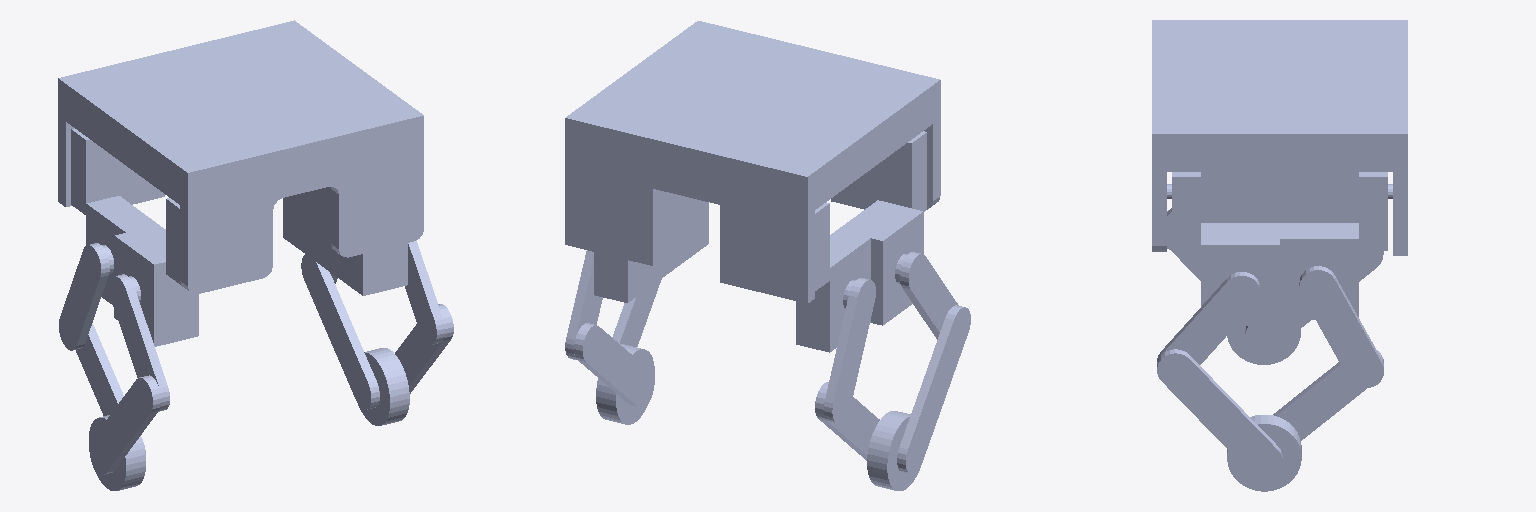
The robot description file, URDF, robot "robot.SLDASM":
<?xml version="1.0" encoding="utf-8"?>
<!-- This URDF was automatically created by SolidWorks to URDF Exporter! Originally created by Stephen Brawner (brawner@gmail.com) 
     Commit Version: 1.6.0-4-g7f85cfe  Build Version: 1.6.7995.38578
     For more information, please see http://wiki.ros.org/sw_urdf_exporter -->
<robot
  name="robot.SLDASM">
  <link
    name="base_link">
    <inertial>
      <origin
        xyz="0.100464743379373 -0.273417797162494 0.231369380364405"
        rpy="0 0 0" />
      <mass
        value="8.12765796417228" />
      <inertia
        ixx="0.113381267165392"
        ixy="-1.10883716950187E-17"
        ixz="6.53856800641098E-18"
        iyy="0.104302535100205"
        iyz="7.39699722855432E-05"
        izz="0.193324449577809" />
    </inertial>
    <visual>
      <origin
        xyz="0 0 0"
        rpy="0 0 0" />
      <geometry>
        <mesh
          filename="package://robot.SLDASM/meshes/base_link.STL" />
      </geometry>
      <material
        name="">
        <color
          rgba="0.792156862745098 0.819607843137255 0.933333333333333 1" />
      </material>
    </visual>
    <collision>
      <origin
        xyz="0 0 0"
        rpy="0 0 0" />
      <geometry>
        <mesh
          filename="package://robot.SLDASM/meshes/base_link.STL" />
      </geometry>
    </collision>
  </link>
  <link
    name="pad_link_right">
    <inertial>
      <origin
        xyz="-3.55729214853301E-05 -0.105 -2.77555756156289E-17"
        rpy="0 0 0" />
      <mass
        value="1.05976991118431" />
      <inertia
        ixx="0.00120769274628234"
        ixy="-5.29395592033938E-22"
        ixz="8.824233070056E-20"
        iyy="0.0023325641456101"
        iyz="-2.4525925475937E-21"
        izz="0.00141046839633323" />
    </inertial>
    <visual>
      <origin
        xyz="0 0 0"
        rpy="0 0 0" />
      <geometry>
        <mesh
          filename="package://robot.SLDASM/meshes/pad_link_right.STL" />
      </geometry>
      <material
        name="">
        <color
          rgba="0.792156862745098 0.819607843137255 0.933333333333333 1" />
      </material>
    </visual>
    <collision>
      <origin
        xyz="0 0 0"
        rpy="0 0 0" />
      <geometry>
        <mesh
          filename="package://robot.SLDASM/meshes/pad_link_right.STL" />
      </geometry>
    </collision>
  </link>
  <joint
    name="pad_joint_right"
    type="fixed">
    <origin
      xyz="-0.0145352566206275 -0.168456056407975 0.153440174945304"
      rpy="-3.14159265358979 0 3.14159265358979" />
    <parent
      link="base_link" />
    <child
      link="pad_link_right" />
    <axis
      xyz="0 0 0" />
  </joint>
  <link
    name="hip_frame_link_right">
    <inertial>
      <origin
        xyz="-0.00787535032168385 -0.0307485208640013 6.93889390390723E-18"
        rpy="0 0 0" />
      <mass
        value="1.51193274122872" />
      <inertia
        ixx="0.00230798720358944"
        ixy="-0.000347926290296318"
        ixz="1.89078126881913E-19"
        iyy="0.00722477501190136"
        iyz="4.08813026916916E-19"
        izz="0.00595941566724505" />
    </inertial>
    <visual>
      <origin
        xyz="0 0 0"
        rpy="0 0 0" />
      <geometry>
        <mesh
          filename="package://robot.SLDASM/meshes/hip_frame_link_right.STL" />
      </geometry>
      <material
        name="">
        <color
          rgba="0.792156862745098 0.819607843137255 0.933333333333333 1" />
      </material>
    </visual>
    <collision>
      <origin
        xyz="0 0 0"
        rpy="0 0 0" />
      <geometry>
        <mesh
          filename="package://robot.SLDASM/meshes/hip_frame_link_right.STL" />
      </geometry>
    </collision>
  </link>
  <joint
    name="hip_frame_joint_right"
    type="fixed">
    <origin
      xyz="0.01 -0.105 0.097"
      rpy="0 0 1.5707963267949" />
    <parent
      link="pad_link_right" />
    <child
      link="hip_frame_link_right" />
    <axis
      xyz="0 0 0" />
  </joint>
  <link
    name="thigh_right_1">
    <inertial>
      <origin
        xyz="0.0700000000000471 0.00650000000000001 -4.08895139969445E-13"
        rpy="0 0 0" />
      <mass
        value="0.116525440310417" />
      <inertia
        ixx="2.4587749999541E-05"
        ixy="-1.36515067319353E-21"
        ixz="1.53967296404782E-15"
        iyy="0.000338559690951383"
        iyz="2.19953294954768E-21"
        izz="0.000317254074187252" />
    </inertial>
    <visual>
      <origin
        xyz="0 0 0"
        rpy="0 0 0" />
      <geometry>
        <mesh
          filename="package://robot.SLDASM/meshes/thigh_right_1.STL" />
      </geometry>
      <material
        name="">
        <color
          rgba="0.792156862745098 0.819607843137255 0.933333333333333 1" />
      </material>
    </visual>
    <collision>
      <origin
        xyz="0 0 0"
        rpy="0 0 0" />
      <geometry>
        <mesh
          filename="package://robot.SLDASM/meshes/thigh_right_1.STL" />
      </geometry>
    </collision>
  </link>
  <joint
    name="thigh_joint_1"
    type="continuous">
    <origin
      xyz="0.0510000000000153 -0.06 0"
      rpy="3.14159265358979 -1.10816260407562 0" />
    <parent
      link="hip_frame_link_right" />
    <child
      link="thigh_right_1" />
    <axis
      xyz="0 1 0" />
  </joint>
  <link
    name="calf_right_link_1">
    <inertial>
      <origin
        xyz="-0.0900000000007728 -0.00650000000000001 2.68611521914153E-13"
        rpy="0 0 0" />
      <mass
        value="0.142525440310417" />
      <inertia
        ixx="3.03705833328743E-05"
        ixy="9.05353026545483E-22"
        ixz="9.29316268849425E-16"
        iyy="0.000603757766611383"
        iyz="2.33468699611553E-22"
        izz="0.000577401649847252" />
    </inertial>
    <visual>
      <origin
        xyz="0 0 0"
        rpy="0 0 0" />
      <geometry>
        <mesh
          filename="package://robot.SLDASM/meshes/calf_right_link_1.STL" />
      </geometry>
      <material
        name="">
        <color
          rgba="0.792156862745098 0.819607843137255 0.933333333333333 1" />
      </material>
    </visual>
    <collision>
      <origin
        xyz="0 0 0"
        rpy="0 0 0" />
      <geometry>
        <mesh
          filename="package://robot.SLDASM/meshes/calf_right_link_1.STL" />
      </geometry>
    </collision>
  </link>
  <joint
    name="calf_joint_right_1"
    type="continuous">
    <origin
      xyz="0.13999999999996 0 0"
      rpy="3.14159265358979 -1.31007351696931 3.14159265358979" />
    <parent
      link="thigh_right_1" />
    <child
      link="calf_right_link_1" />
    <axis
      xyz="0 1 0" />
  </joint>
  <link
    name="wheel_link_right">
    <inertial>
      <origin
        xyz="4.36872760189999E-14 -0.015 9.0116802908824E-13"
        rpy="0 0 0" />
      <mass
        value="0.234111484545512" />
      <inertia
        ixx="0.00016481448512004"
        ixy="-1.38494337144744E-21"
        ixz="-2.5410988417629E-21"
        iyy="0.000294512247558254"
        iyz="3.31377145312428E-21"
        izz="0.00016481448512004" />
    </inertial>
    <visual>
      <origin
        xyz="0 0 0"
        rpy="0 0 0" />
      <geometry>
        <mesh
          filename="package://robot.SLDASM/meshes/wheel_link_right.STL" />
      </geometry>
      <material
        name="">
        <color
          rgba="0.792156862745098 0.819607843137255 0.933333333333333 1" />
      </material>
    </visual>
    <collision>
      <origin
        xyz="0 0 0"
        rpy="0 0 0" />
      <geometry>
        <mesh
          filename="package://robot.SLDASM/meshes/wheel_link_right.STL" />
      </geometry>
    </collision>
  </link>
  <joint
    name="wheel_joint_right"
    type="continuous">
    <origin
      xyz="-0.180000000000025 0.000999999999999987 0"
      rpy="0 0.928798996028179 3.14159265358979" />
    <parent
      link="calf_right_link_1" />
    <child
      link="wheel_link_right" />
    <axis
      xyz="0 1 0" />
  </joint>
  <link
    name="thigh_right_2">
    <inertial>
      <origin
        xyz="0.0699999999999911 0.00649999999999999 -2.58071342074118E-13"
        rpy="0 0 0" />
      <mass
        value="0.116525440310417" />
      <inertia
        ixx="2.45877499995411E-05"
        ixy="6.9352432719385E-22"
        ixz="1.05707424828379E-15"
        iyy="0.000338559690951382"
        iyz="-2.84526358354157E-21"
        izz="0.000317254074187251" />
    </inertial>
    <visual>
      <origin
        xyz="0 0 0"
        rpy="0 0 0" />
      <geometry>
        <mesh
          filename="package://robot.SLDASM/meshes/thigh_right_2.STL" />
      </geometry>
      <material
        name="">
        <color
          rgba="0.792156862745098 0.819607843137255 0.933333333333333 1" />
      </material>
    </visual>
    <collision>
      <origin
        xyz="0 0 0"
        rpy="0 0 0" />
      <geometry>
        <mesh
          filename="package://robot.SLDASM/meshes/thigh_right_2.STL" />
      </geometry>
    </collision>
  </link>
  <joint
    name="thigh_joint_2"
    type="continuous">
    <origin
      xyz="-0.0510000000000018 -0.078 0"
      rpy="0 -0.886862904121189 3.14159265358979" />
    <parent
      link="hip_frame_link_right" />
    <child
      link="thigh_right_2" />
    <axis
      xyz="0 1 0" />
  </joint>
  <link
    name="calf_right_link_2">
    <inertial>
      <origin
        xyz="-0.0899999999994293 0.00649999999999999 3.56492613207138E-13"
        rpy="0 0 0" />
      <mass
        value="0.142525440310417" />
      <inertia
        ixx="3.03705833328744E-05"
        ixy="-2.23748770220882E-21"
        ixz="2.01531838634784E-15"
        iyy="0.000603757766611383"
        iyz="-1.81007091485894E-21"
        izz="0.000577401649847252" />
    </inertial>
    <visual>
      <origin
        xyz="0 0 0"
        rpy="0 0 0" />
      <geometry>
        <mesh
          filename="package://robot.SLDASM/meshes/calf_right_link_2.STL" />
      </geometry>
      <material
        name="">
        <color
          rgba="0.792156862745098 0.819607843137255 0.933333333333333 1" />
      </material>
    </visual>
    <collision>
      <origin
        xyz="0 0 0"
        rpy="0 0 0" />
      <geometry>
        <mesh
          filename="package://robot.SLDASM/meshes/calf_right_link_2.STL" />
      </geometry>
    </collision>
  </link>
  <joint
    name="calf_joint_right_2"
    type="continuous">
    <origin
      xyz="0.140000000000064 0.013 0"
      rpy="3.14159265358979 1.39896599112596 3.14159265358979" />
    <parent
      link="thigh_right_2" />
    <child
      link="calf_right_link_2" />
    <axis
      xyz="0 1 0" />
  </joint>
  <link
    name="pad_link_left">
    <inertial>
      <origin
        xyz="-3.5572921485344E-05 -0.105 2.77555756156289E-17"
        rpy="0 0 0" />
      <mass
        value="1.05976991118431" />
      <inertia
        ixx="0.00120769274628234"
        ixy="1.05879118406788E-22"
        ixz="-2.33498734180828E-19"
        iyy="0.0023325641456101"
        iyz="1.83171406703271E-21"
        izz="0.00141046839633323" />
    </inertial>
    <visual>
      <origin
        xyz="0 0 0"
        rpy="0 0 0" />
      <geometry>
        <mesh
          filename="package://robot.SLDASM/meshes/pad_link_left.STL" />
      </geometry>
      <material
        name="">
        <color
          rgba="0.792156862745098 0.819607843137255 0.933333333333333 1" />
      </material>
    </visual>
    <collision>
      <origin
        xyz="0 0 0"
        rpy="0 0 0" />
      <geometry>
        <mesh
          filename="package://robot.SLDASM/meshes/pad_link_left.STL" />
      </geometry>
    </collision>
  </link>
  <joint
    name="pad_joint_left"
    type="fixed">
    <origin
      xyz="0.215464743379373 -0.378456056407975 0.153440174945304"
      rpy="3.14159265358979 0 0" />
    <parent
      link="base_link" />
    <child
      link="pad_link_left" />
    <axis
      xyz="0 0 0" />
  </joint>
  <link
    name="hip_frame_link_left">
    <inertial>
      <origin
        xyz="-0.0078753503216839 0.0307485208640013 -6.93889390390723E-18"
        rpy="0 0 0" />
      <mass
        value="1.51193274122872" />
      <inertia
        ixx="0.00230798720358944"
        ixy="0.000347926290296318"
        ixz="-1.35078386623163E-18"
        iyy="0.00722477501190135"
        iyz="8.40488619506597E-20"
        izz="0.00595941566724504" />
    </inertial>
    <visual>
      <origin
        xyz="0 0 0"
        rpy="0 0 0" />
      <geometry>
        <mesh
          filename="package://robot.SLDASM/meshes/hip_frame_link_left.STL" />
      </geometry>
      <material
        name="">
        <color
          rgba="0.792156862745098 0.819607843137255 0.933333333333333 1" />
      </material>
    </visual>
    <collision>
      <origin
        xyz="0 0 0"
        rpy="0 0 0" />
      <geometry>
        <mesh
          filename="package://robot.SLDASM/meshes/hip_frame_link_left.STL" />
      </geometry>
    </collision>
  </link>
  <joint
    name="hil_frame_joint_left"
    type="fixed">
    <origin
      xyz="0.01 -0.105 0.0970000000000001"
      rpy="0 0 -1.5707963267949" />
    <parent
      link="pad_link_left" />
    <child
      link="hip_frame_link_left" />
    <axis
      xyz="0 0 0" />
  </joint>
  <link
    name="thigh_left_1">
    <inertial>
      <origin
        xyz="0.07 -0.00649999999999995 -2.77555756156289E-17"
        rpy="0 0 0" />
      <mass
        value="0.116525440310417" />
      <inertia
        ixx="2.45877499995411E-05"
        ixy="5.27965569542743E-23"
        ixz="8.30092288309214E-20"
        iyy="0.000338559690951383"
        iyz="-9.12645292528991E-22"
        izz="0.000317254074187252" />
    </inertial>
    <visual>
      <origin
        xyz="0 0 0"
        rpy="0 0 0" />
      <geometry>
        <mesh
          filename="package://robot.SLDASM/meshes/thigh_left_1.STL" />
      </geometry>
      <material
        name="">
        <color
          rgba="0.792156862745098 0.819607843137255 0.933333333333333 1" />
      </material>
    </visual>
    <collision>
      <origin
        xyz="0 0 0"
        rpy="0 0 0" />
      <geometry>
        <mesh
          filename="package://robot.SLDASM/meshes/thigh_left_1.STL" />
      </geometry>
    </collision>
  </link>
  <joint
    name="thigh_joint_1"
    type="continuous">
    <origin
      xyz="0.0509999999999999 0.06 0"
      rpy="3.14159265358979 -1.10060010562748 0" />
    <parent
      link="hip_frame_link_left" />
    <child
      link="thigh_left_1" />
    <axis
      xyz="0 1 0" />
  </joint>
  <link
    name="calf_left_link_1">
    <inertial>
      <origin
        xyz="-0.0899999999999976 0.00650000000000001 7.66053886991358E-15"
        rpy="0 0 0" />
      <mass
        value="0.142525440310417" />
      <inertia
        ixx="3.03705833328744E-05"
        ixy="-6.23776929673658E-21"
        ixz="2.64274279543342E-19"
        iyy="0.000603757766611385"
        iyz="2.42468484584563E-22"
        izz="0.000577401649847254" />
    </inertial>
    <visual>
      <origin
        xyz="0 0 0"
        rpy="0 0 0" />
      <geometry>
        <mesh
          filename="package://robot.SLDASM/meshes/calf_left_link_1.STL" />
      </geometry>
      <material
        name="">
        <color
          rgba="0.792156862745098 0.819607843137255 0.933333333333333 1" />
      </material>
    </visual>
    <collision>
      <origin
        xyz="0 0 0"
        rpy="0 0 0" />
      <geometry>
        <mesh
          filename="package://robot.SLDASM/meshes/calf_left_link_1.STL" />
      </geometry>
    </collision>
  </link>
  <joint
    name="calf_joint_left_1"
    type="continuous">
    <origin
      xyz="0.14 0 0"
      rpy="3.14159265358979 -1.32012929338845 3.14159265358979" />
    <parent
      link="thigh_left_1" />
    <child
      link="calf_left_link_1" />
    <axis
      xyz="0 1 0" />
  </joint>
  <link
    name="wheel_link_left">
    <inertial>
      <origin
        xyz="4.63518112781003E-15 0.015 -5.10702591327572E-15"
        rpy="0 0 0" />
      <mass
        value="0.234111484545512" />
      <inertia
        ixx="0.00016481448512004"
        ixy="-1.32690051411216E-21"
        ixz="5.22185070698748E-40"
        iyy="0.000294512247558254"
        iyz="-2.10584729793552E-35"
        izz="0.00016481448512004" />
    </inertial>
    <visual>
      <origin
        xyz="0 0 0"
        rpy="0 0 0" />
      <geometry>
        <mesh
          filename="package://robot.SLDASM/meshes/wheel_link_left.STL" />
      </geometry>
      <material
        name="">
        <color
          rgba="0.792156862745098 0.819607843137255 0.933333333333333 1" />
      </material>
    </visual>
    <collision>
      <origin
        xyz="0 0 0"
        rpy="0 0 0" />
      <geometry>
        <mesh
          filename="package://robot.SLDASM/meshes/wheel_link_left.STL" />
      </geometry>
    </collision>
  </link>
  <joint
    name="wheel_joint_left"
    type="continuous">
    <origin
      xyz="-0.180000000000001 -0.001 0"
      rpy="0 0.849933072221034 3.14159265358979" />
    <parent
      link="calf_left_link_1" />
    <child
      link="wheel_link_left" />
    <axis
      xyz="0 1 0" />
  </joint>
  <link
    name="thigh_left_2">
    <inertial>
      <origin
        xyz="0.0699999999999821 -0.00649999999999995 -1.00475183728577E-14"
        rpy="0 0 0" />
      <mass
        value="0.116525440310417" />
      <inertia
        ixx="2.45877499995411E-05"
        ixy="2.25113385230681E-22"
        ixz="2.15993401549847E-19"
        iyy="0.000338559690951383"
        iyz="-1.13788144941437E-21"
        izz="0.000317254074187252" />
    </inertial>
    <visual>
      <origin
        xyz="0 0 0"
        rpy="0 0 0" />
      <geometry>
        <mesh
          filename="package://robot.SLDASM/meshes/thigh_left_2.STL" />
      </geometry>
      <material
        name="">
        <color
          rgba="0.792156862745098 0.819607843137255 0.933333333333333 1" />
      </material>
    </visual>
    <collision>
      <origin
        xyz="0 0 0"
        rpy="0 0 0" />
      <geometry>
        <mesh
          filename="package://robot.SLDASM/meshes/thigh_left_2.STL" />
      </geometry>
    </collision>
  </link>
  <joint
    name="thigh_joint_2"
    type="continuous">
    <origin
      xyz="-0.0510000000000005 0.078 0"
      rpy="0 -0.885520670756392 3.14159265358979" />
    <parent
      link="hip_frame_link_left" />
    <child
      link="thigh_left_2" />
    <axis
      xyz="0 1 0" />
  </joint>
  <link
    name="calf_left_link_2">
    <inertial>
      <origin
        xyz="-0.0900000000000073 -0.00650000000000001 1.66533453693773E-16"
        rpy="0 0 0" />
      <mass
        value="0.142525440310417" />
      <inertia
        ixx="3.03705833328745E-05"
        ixy="-3.00074510556189E-21"
        ixz="-1.04185052512279E-19"
        iyy="0.000603757766611385"
        iyz="2.89004002464875E-21"
        izz="0.000577401649847254" />
    </inertial>
    <visual>
      <origin
        xyz="0 0 0"
        rpy="0 0 0" />
      <geometry>
        <mesh
          filename="package://robot.SLDASM/meshes/calf_left_link_2.STL" />
      </geometry>
      <material
        name="">
        <color
          rgba="0.792156862745098 0.819607843137255 0.933333333333333 1" />
      </material>
    </visual>
    <collision>
      <origin
        xyz="0 0 0"
        rpy="0 0 0" />
      <geometry>
        <mesh
          filename="package://robot.SLDASM/meshes/calf_left_link_2.STL" />
      </geometry>
    </collision>
  </link>
  <joint
    name="calf_left_joint_1"
    type="continuous">
    <origin
      xyz="0.139999999999993 -0.013 0"
      rpy="3.14159265358979 1.40616950507853 3.14159265358979" />
    <parent
      link="thigh_left_2" />
    <child
      link="calf_left_link_2" />
    <axis
      xyz="0 1 0" />
  </joint>
</robot>

--- What the picture shows (computed from the rendered views, not written in the file) ---
3 views of the same robot in one strip: view 1: azimuth 30°, elevation 25°; view 2: azimuth 150°, elevation 25°; view 3: azimuth 270°, elevation 25° (orthographic).
Model robot.SLDASM with 15 links and 14 joints (10 continuous, 4 fixed), rooted at base_link, posed all joints at 0.
Visible links, largest first — view 1: base_link, hip_frame_link_right, hip_frame_link_left, pad_link_right, calf_left_link_1, calf_right_link_2, thigh_right_1, thigh_right_2, wheel_link_left, thigh_left_2, calf_right_link_1, calf_left_link_2 (+2 smaller); view 2: base_link, hip_frame_link_right, pad_link_right, hip_frame_link_left, calf_right_link_2, thigh_right_1, calf_left_link_1, thigh_right_2, wheel_link_right, calf_right_link_1, thigh_left_1, wheel_link_left (+2 smaller); view 3: base_link, hip_frame_link_left, hip_frame_link_right, calf_left_link_2, thigh_left_1, pad_link_left, thigh_left_2, calf_left_link_1, wheel_link_left, calf_right_link_1, wheel_link_right.
Boxes of the visible links, bbox=[...] form: base_link: bbox=[58, 20, 423, 293]; hip_frame_link_right: bbox=[86, 196, 198, 346]; hip_frame_link_left: bbox=[283, 190, 407, 295]; pad_link_right: bbox=[71, 128, 180, 284]; calf_left_link_1: bbox=[301, 254, 379, 409]; calf_right_link_2: bbox=[90, 375, 161, 474]; thigh_right_1: bbox=[59, 243, 109, 350]; thigh_right_2: bbox=[109, 274, 169, 411]; wheel_link_left: bbox=[358, 348, 409, 425]; thigh_left_2: bbox=[405, 240, 444, 344]; calf_right_link_1: bbox=[76, 323, 145, 454]; calf_left_link_2: bbox=[395, 304, 453, 393]; base_link: bbox=[565, 21, 940, 303]; hip_frame_link_right: bbox=[796, 200, 923, 352]; pad_link_right: bbox=[815, 131, 926, 290]; hip_frame_link_left: bbox=[594, 194, 708, 302]; calf_right_link_2: bbox=[897, 305, 970, 474]; thigh_right_1: bbox=[824, 278, 875, 423]; calf_left_link_1: bbox=[574, 323, 654, 407]; thigh_right_2: bbox=[900, 252, 958, 339]; wheel_link_right: bbox=[867, 411, 920, 490]; calf_right_link_1: bbox=[815, 382, 879, 460]; thigh_left_1: bbox=[565, 250, 602, 359]; wheel_link_left: bbox=[596, 344, 654, 424]; base_link: bbox=[1152, 20, 1407, 255]; hip_frame_link_left: bbox=[1201, 223, 1358, 325]; hip_frame_link_right: bbox=[1201, 172, 1358, 222]; calf_left_link_2: bbox=[1157, 349, 1282, 478]; thigh_left_1: bbox=[1299, 266, 1383, 387]; pad_link_left: bbox=[1167, 172, 1392, 250]; thigh_left_2: bbox=[1157, 272, 1259, 364]; calf_left_link_1: bbox=[1273, 350, 1383, 440]; wheel_link_left: bbox=[1227, 415, 1301, 491]; calf_right_link_1: bbox=[1245, 251, 1383, 351]; wheel_link_right: bbox=[1227, 326, 1300, 364].
Bounding box of the posed robot: 0.458 × 0.342 × 0.5114 m (x, y, z).
15 mesh visuals loaded from 15 distinct referenced files (15 binary STL).
